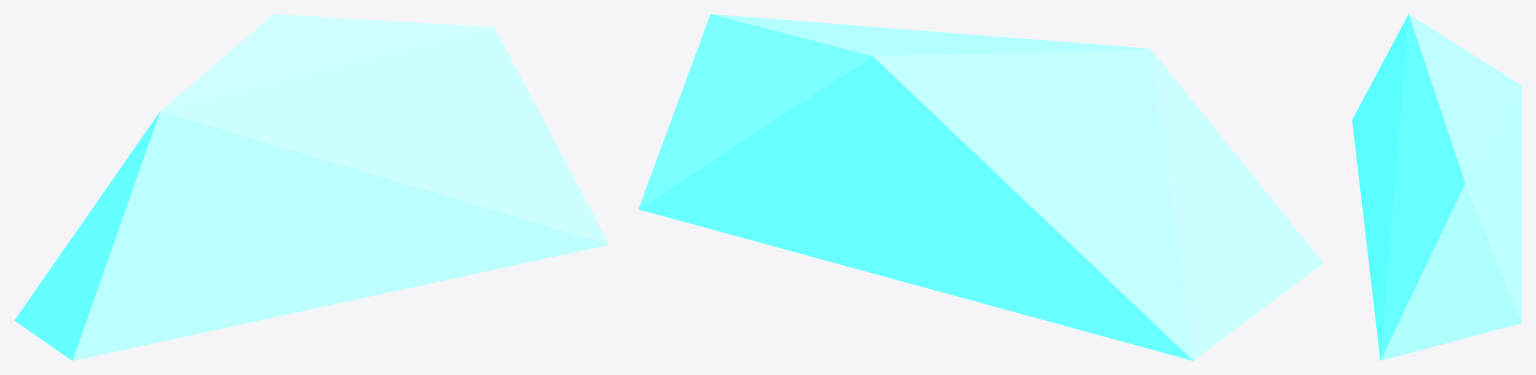
The model's file is Mesh_Voxel_02.glb.
3 views of the same model, side by side, from view 1: azimuth 30°, elevation 25°; view 2: azimuth 150°, elevation 25°; view 3: azimuth 270°, elevation 25° (orthographic). The views are drawn at different scales.
Parts seen in each view (by area): view 1: Mesh_Voxel_02; view 2: Mesh_Voxel_02; view 3: Mesh_Voxel_02.
Boxes of the visible parts, x1=… form: Mesh_Voxel_02: x1=14, y1=14, x2=609, y2=360; Mesh_Voxel_02: x1=638, y1=14, x2=1323, y2=360; Mesh_Voxel_02: x1=1352, y1=14, x2=1521, y2=360.
Bounding box in the file's own units: 0.18 × 0.07 × 0.06.
